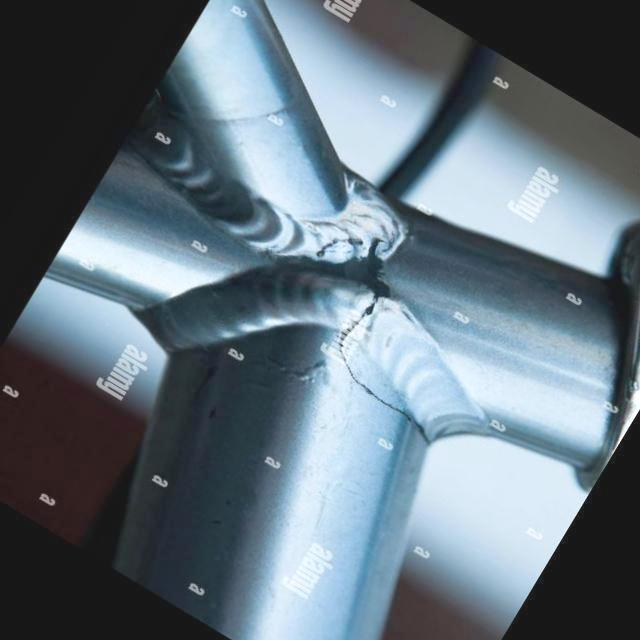defect: (331, 291, 439, 455), (309, 233, 366, 262)
